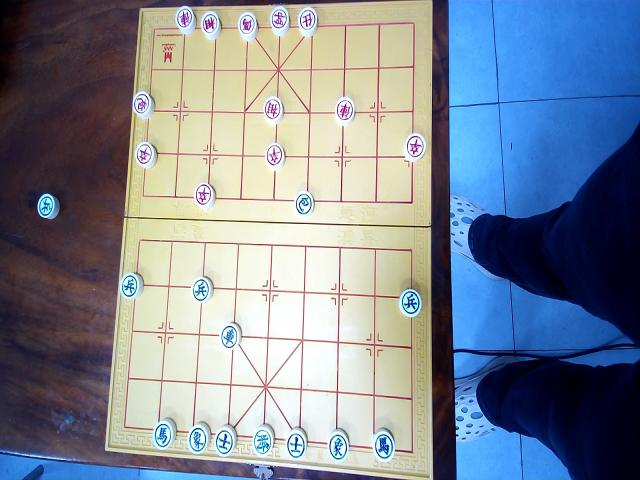piece: (373, 429, 395, 462), (153, 418, 176, 449), (214, 425, 236, 457), (253, 424, 274, 457), (328, 429, 349, 462), (188, 422, 210, 453), (200, 10, 222, 40), (286, 428, 306, 459), (399, 289, 421, 317), (404, 133, 425, 162), (175, 6, 196, 35), (120, 273, 143, 299), (191, 276, 213, 303), (133, 91, 154, 119), (263, 96, 283, 125), (335, 97, 355, 126), (270, 6, 289, 36), (298, 7, 317, 37), (265, 143, 285, 171), (238, 12, 257, 41), (37, 194, 59, 219), (220, 323, 241, 349), (135, 142, 156, 168), (194, 183, 215, 209), (295, 191, 314, 216)
